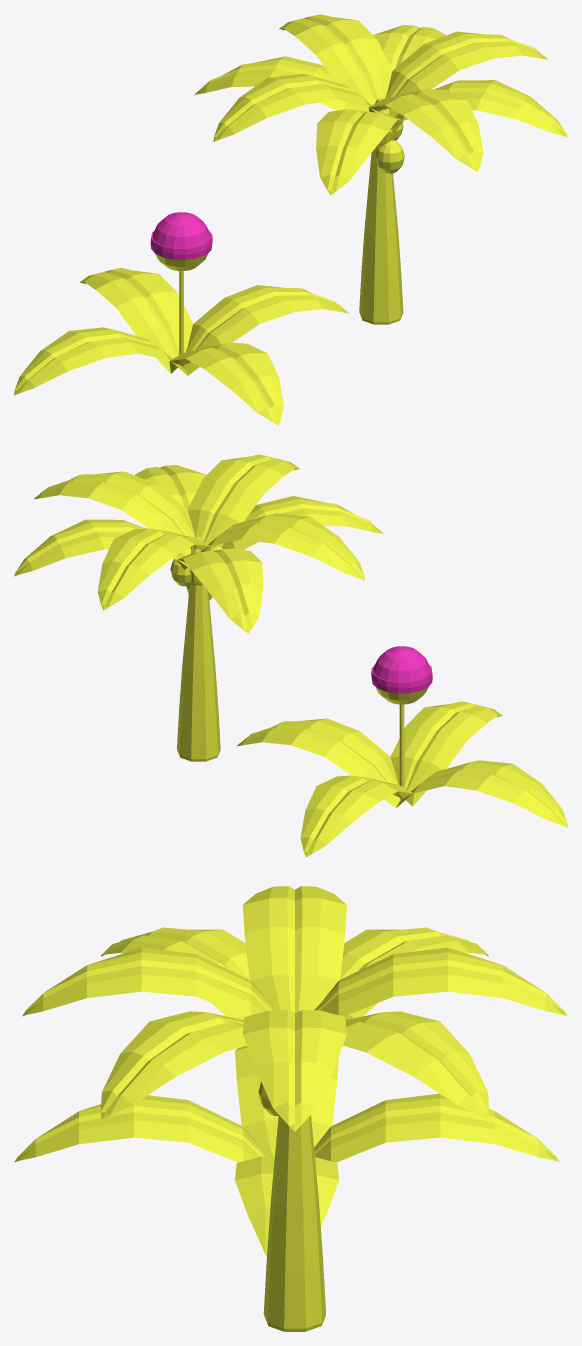
The model's file is Palmera_Planta.FBX.
3 views of the same model, one above another, from view 1: azimuth 30°, elevation 25°; view 2: azimuth 150°, elevation 25°; view 3: azimuth 270°, elevation 25° (orthographic). The views are drawn at different scales.
Visible parts, largest first — view 1: Palmera, Planta_ChupaChup; view 2: Palmera, Planta_ChupaChup; view 3: Palmera, Planta_ChupaChup.
Boxes of the visible parts, <box> form: Palmera: <box>195,14,567,324</box>; Planta_ChupaChup: <box>14,212,348,425</box>; Palmera: <box>14,454,383,761</box>; Planta_ChupaChup: <box>236,646,567,857</box>; Palmera: <box>22,886,567,1331</box>; Planta_ChupaChup: <box>14,1045,559,1255</box>.
Bounding box in the file's own units: 421 × 192 × 266.
